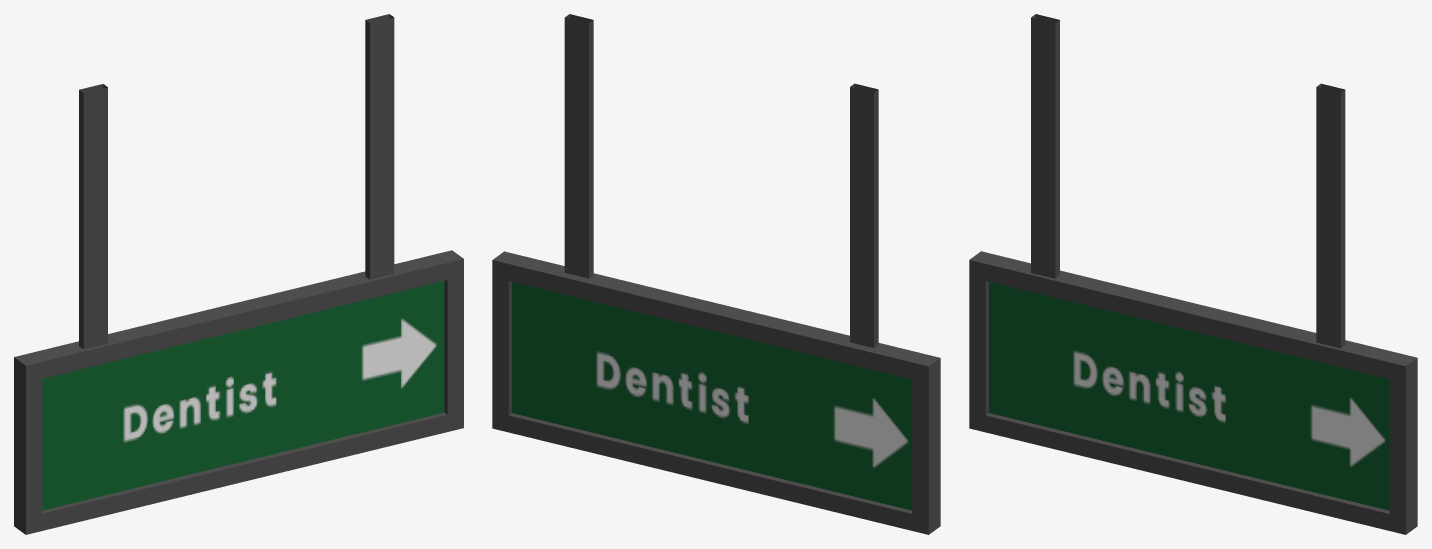
Rendered from DentistBoard.fbx.
3 views of the same model, side by side, from view 1: azimuth 30°, elevation 25°; view 2: azimuth 150°, elevation 25°; view 3: azimuth 330°, elevation 25° (orthographic).
Visible parts, largest first — view 1: DentistBoard; view 2: DentistBoard; view 3: DentistBoard.
Part boxes in pixels (x1,y1,x2,y2): DentistBoard: (14,14,463,534); DentistBoard: (492,14,940,534); DentistBoard: (969,14,1417,534).
Bounding box in the file's own units: 40.54 × 37.64 × 1.9.
